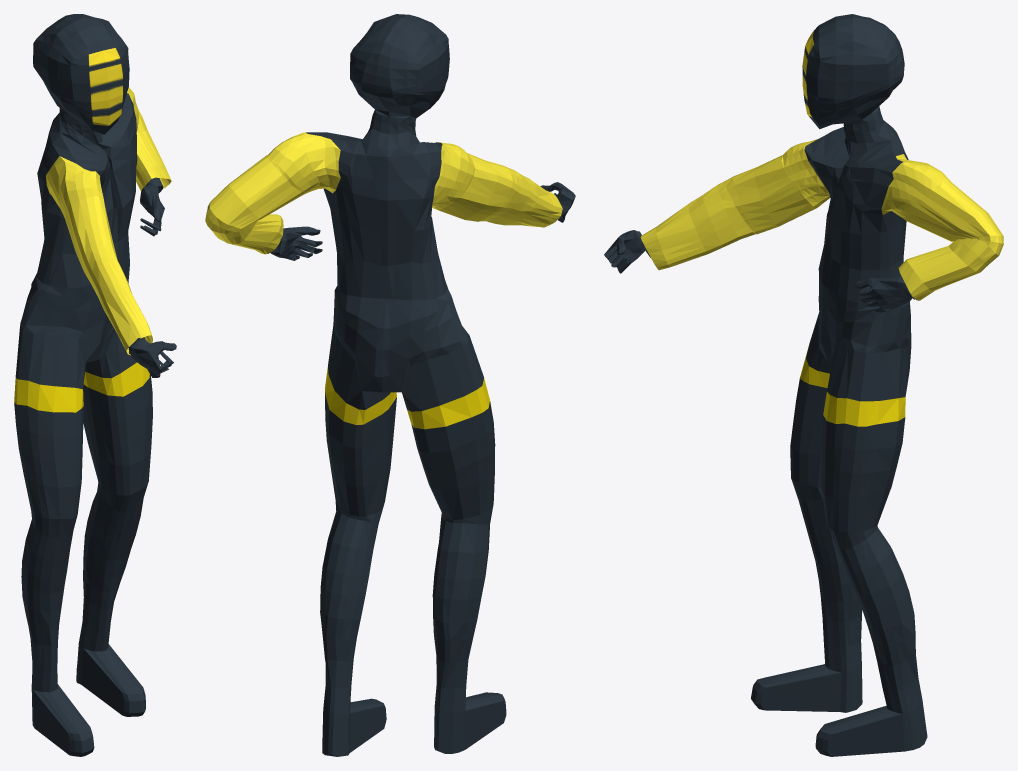
File: Sentry_WF_000013.obj
3 views of the same model, side by side, from view 1: azimuth 30°, elevation 25°; view 2: azimuth 150°, elevation 25°; view 3: azimuth 270°, elevation 25° (orthographic). The views are drawn at different scales.
Visible parts, largest first — view 1: Cube; view 2: Cube; view 3: Cube.
Boxes of the visible parts, x1=… form: Cube: x1=14, y1=14, x2=176, y2=756; Cube: x1=205, y1=14, x2=575, y2=756; Cube: x1=604, y1=14, x2=1003, y2=756.
Bounding box in the file's own units: 1.15 × 3.91 × 1.98.
